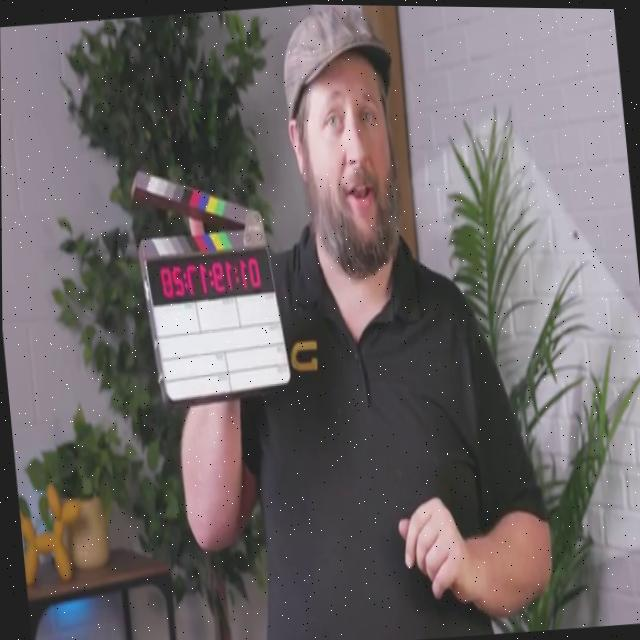Clapperboard: (135, 154, 294, 412)
